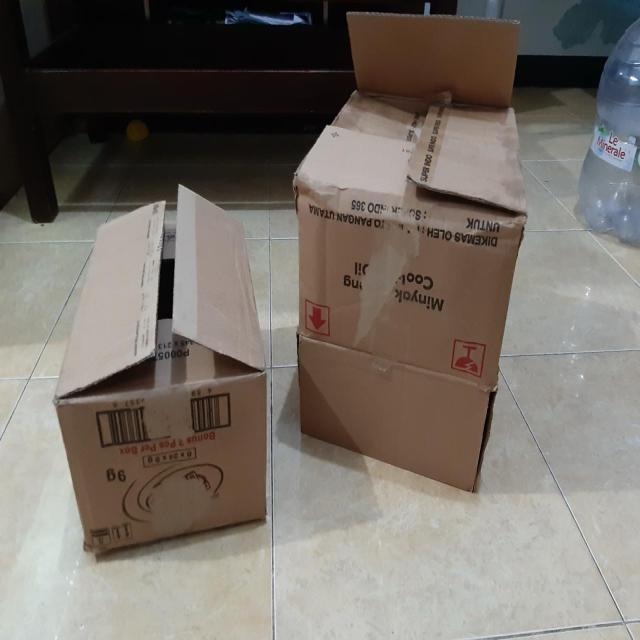Galon: (570, 10, 640, 244)
Kardus: (292, 11, 528, 494), (52, 183, 268, 556)
